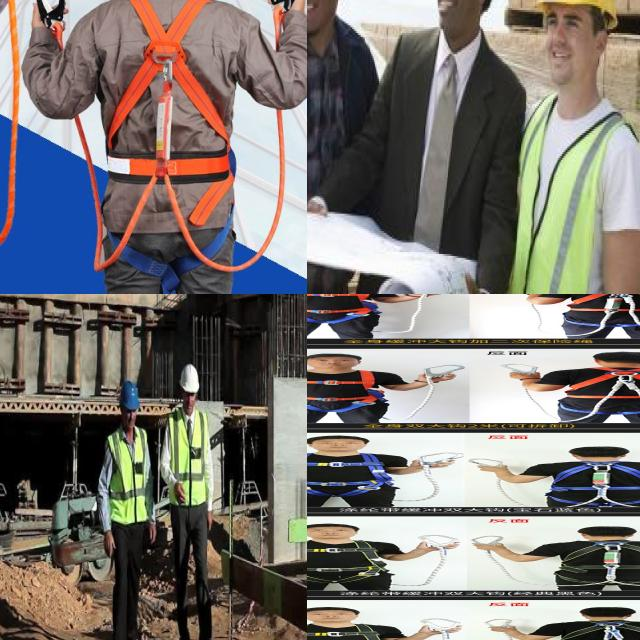Harness: (85, 0, 247, 292), (539, 458, 640, 507), (307, 454, 403, 500), (539, 542, 640, 584), (556, 367, 640, 416), (307, 368, 407, 408), (307, 539, 385, 585), (307, 294, 398, 325), (543, 294, 640, 317), (539, 619, 640, 640), (307, 622, 394, 640)
No_Ear-Protection: (592, 24, 608, 64), (475, 0, 490, 10)
No_Glasses: (542, 8, 591, 37)
face_nomask: (542, 8, 592, 91), (430, 0, 472, 36), (307, 0, 335, 40), (122, 406, 138, 434), (181, 389, 198, 415)
hand_noglove: (448, 272, 490, 294), (171, 478, 187, 511), (103, 531, 118, 561), (150, 521, 158, 544), (207, 510, 214, 534)
head_helmet: (533, 0, 618, 15), (119, 377, 140, 412), (179, 362, 201, 393)
person: (356, 0, 526, 294), (504, 0, 639, 294), (307, 0, 368, 294), (167, 362, 211, 640), (103, 377, 149, 640)
vest: (507, 96, 633, 294), (165, 409, 212, 509), (110, 430, 149, 520)
